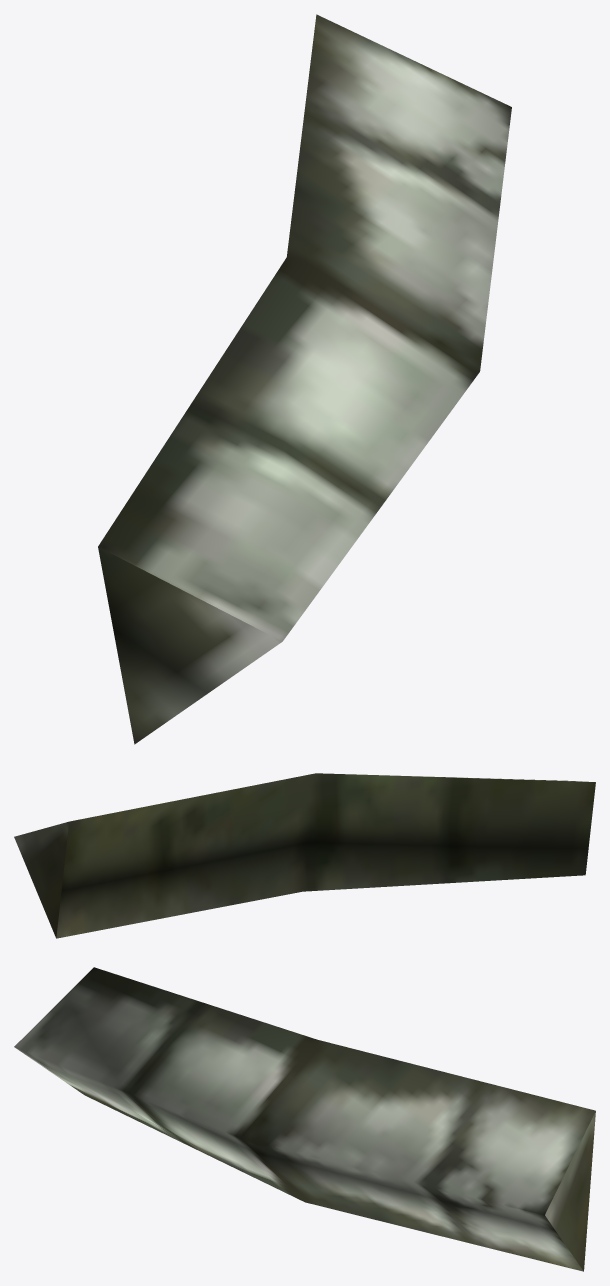
The model's file is dragonspawn_bones_03.fbx.
3 views of the same model, one above another, from view 1: azimuth 30°, elevation 25°; view 2: azimuth 150°, elevation 25°; view 3: azimuth 270°, elevation 25° (orthographic). The views are drawn at different scales.
Parts seen in each view (by area): view 1: dragonspawn_bones_mat; view 2: dragonspawn_bones_mat; view 3: dragonspawn_bones_mat.
Part boxes in pixels (<box>): dragonspawn_bones_mat: <box>98,14,511,744</box>; dragonspawn_bones_mat: <box>14,773,595,938</box>; dragonspawn_bones_mat: <box>14,967,595,1271</box>.
Bounding box in the file's own units: 1.04 × 0.3396 × 1.1.
